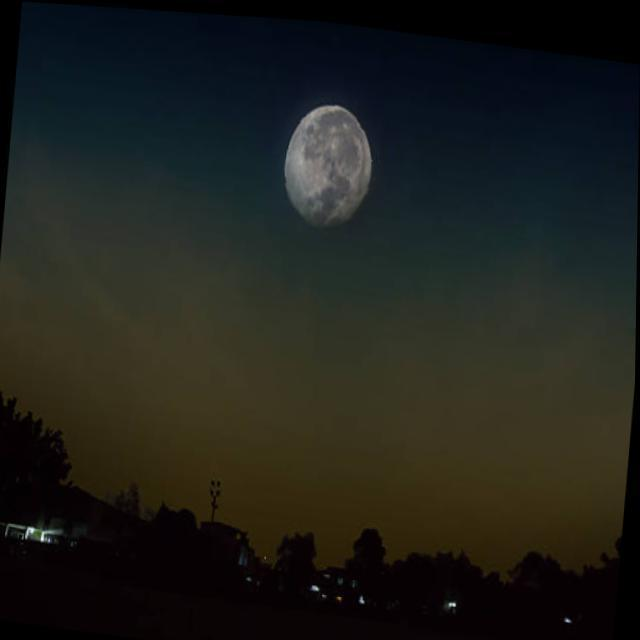moon: (279, 94, 382, 232)
